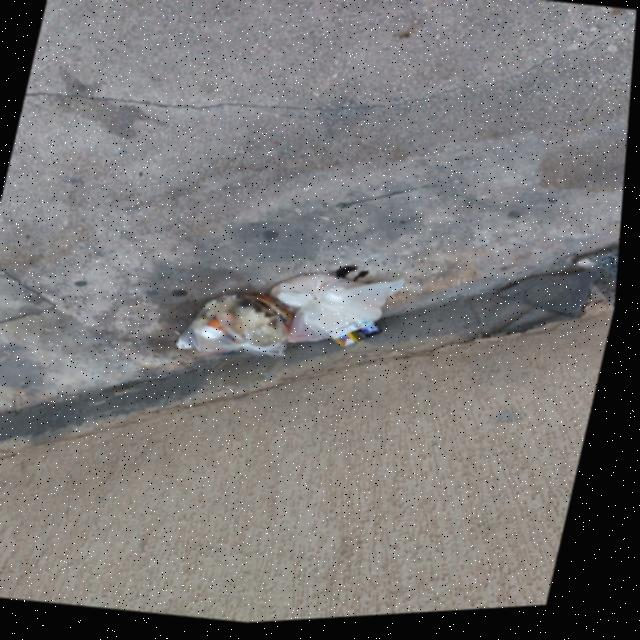Organic Waste -White Bag-: (174, 249, 398, 388)
